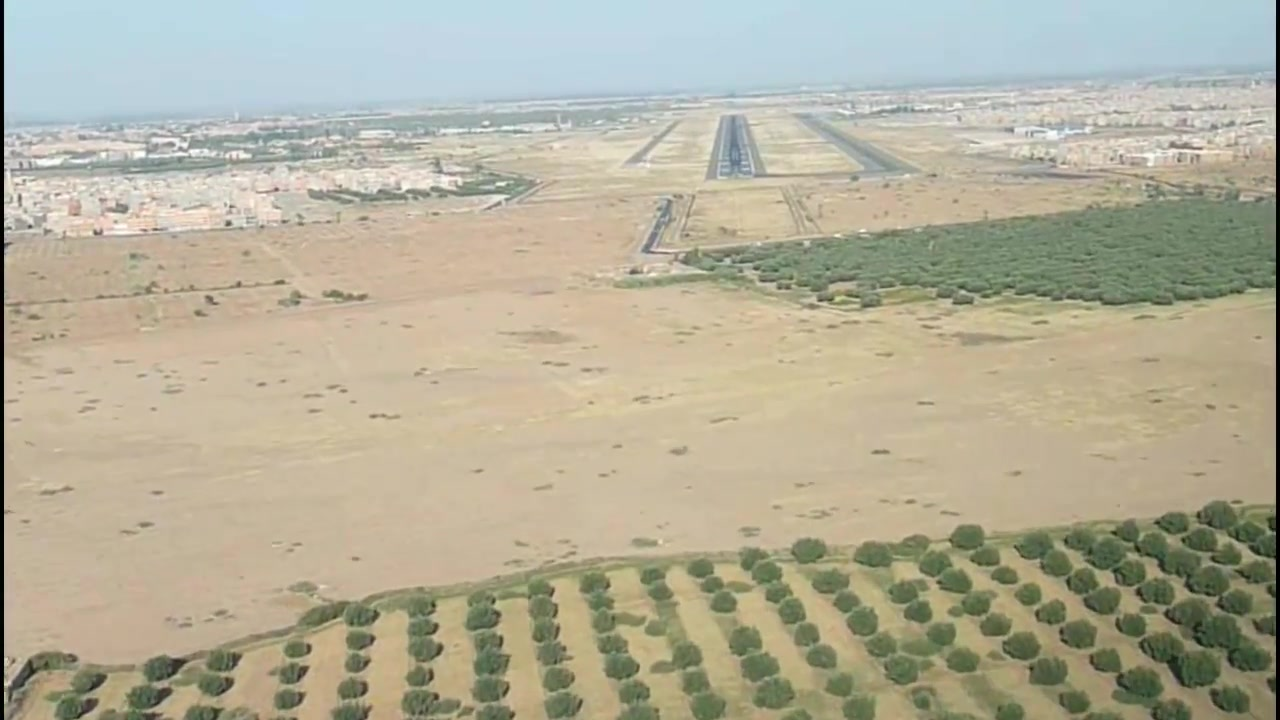runway: (712, 111, 758, 182)
